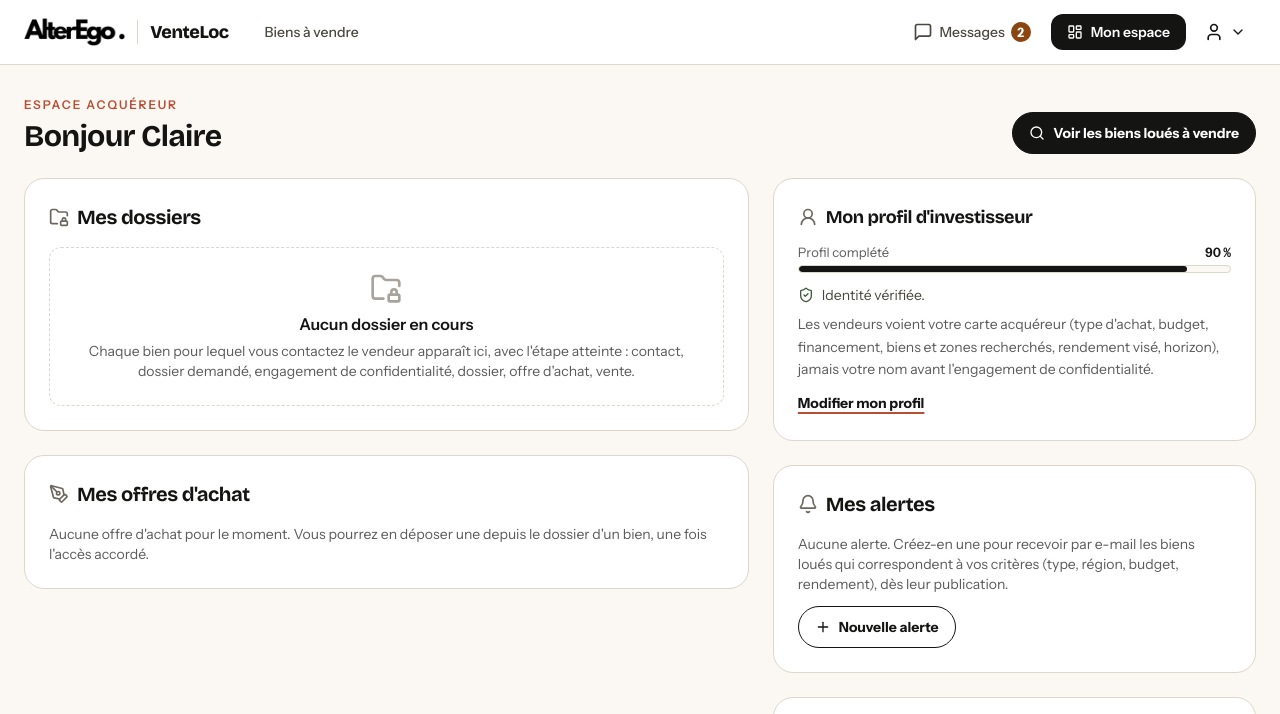
Test: BuyerDashboard › alerte : création avec types de biens et rendement minimum → POST /alerts
Later steps or results of the test are not shown.
Click the button with test id "alert-new" at (877, 627), box [798,606,956,648]
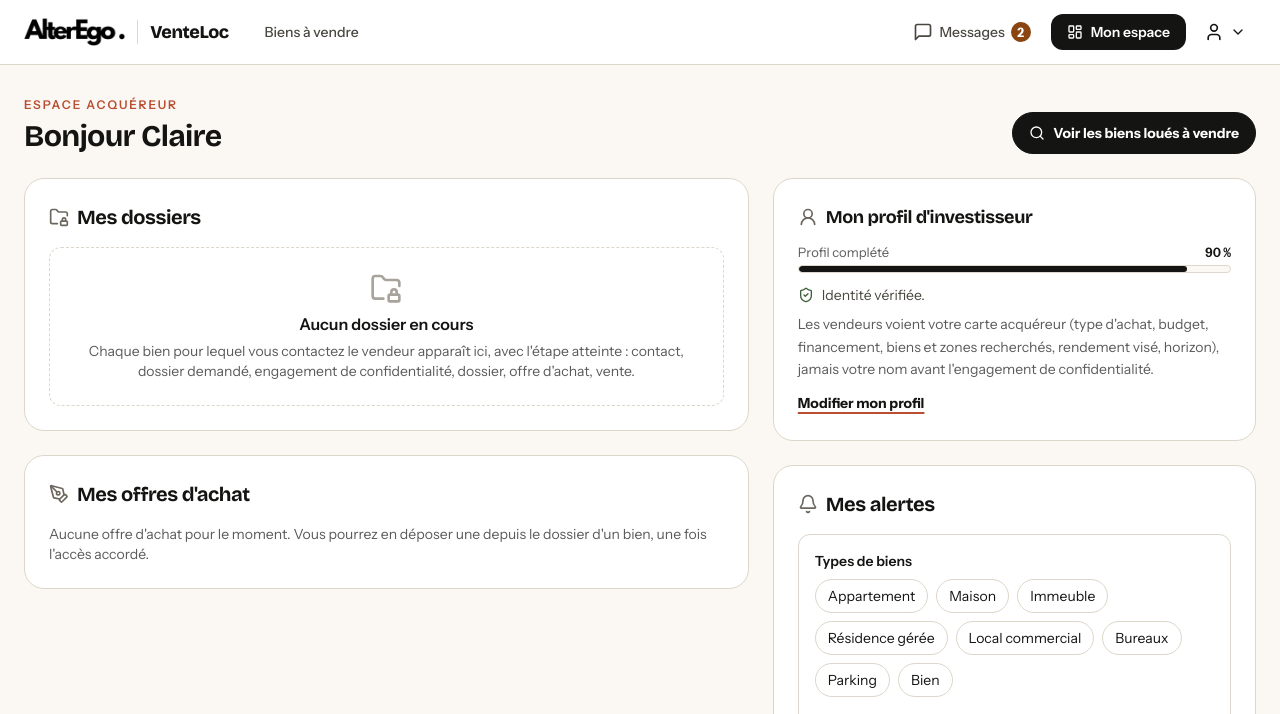
Now the form with test id "alert-editor" shows "Types de biens", box [815,552,912,570]
